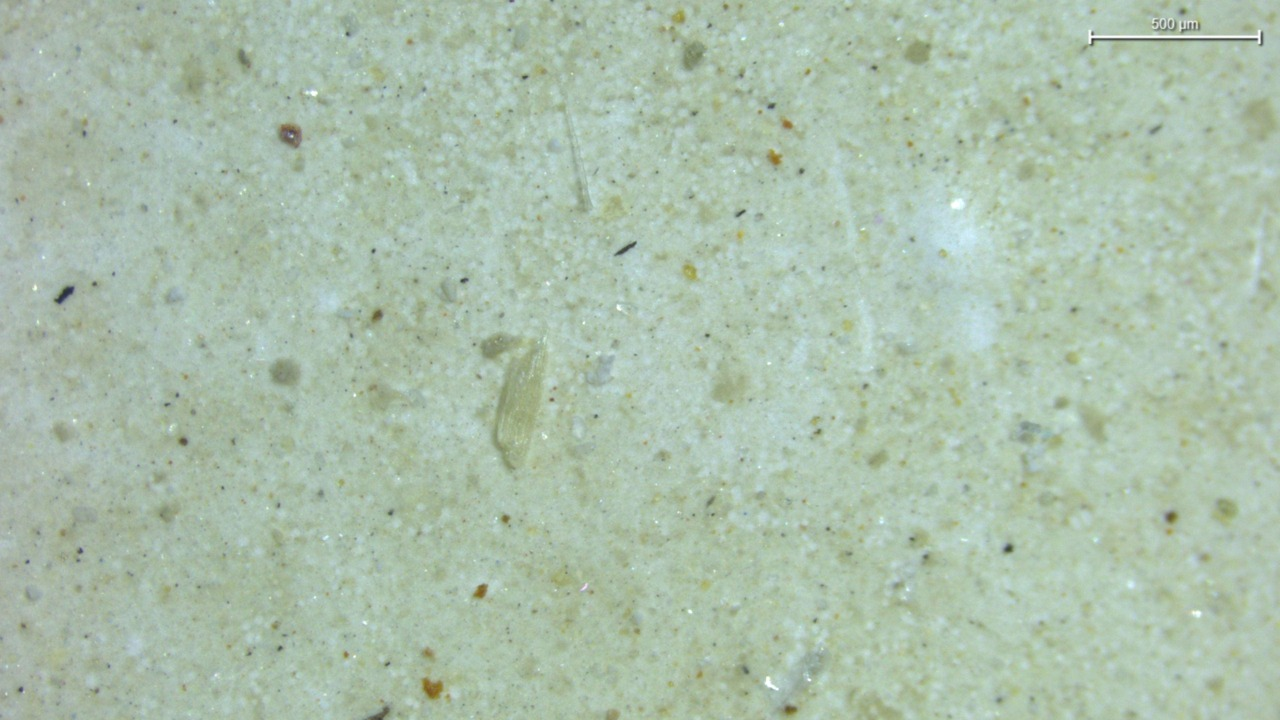microplastic_fragment: (496, 340, 547, 468)
